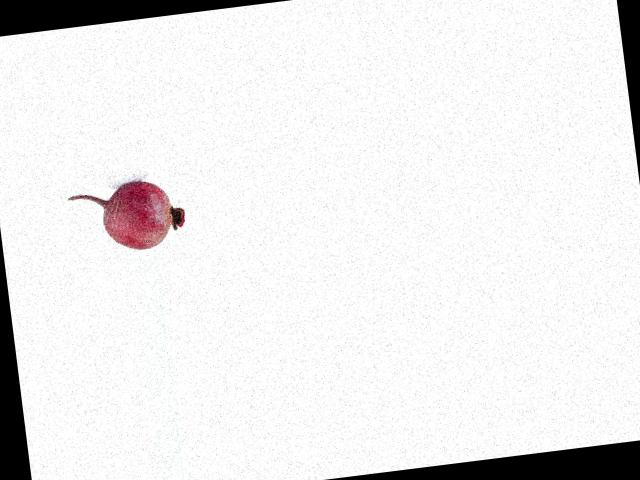beet: (67, 175, 187, 257)
